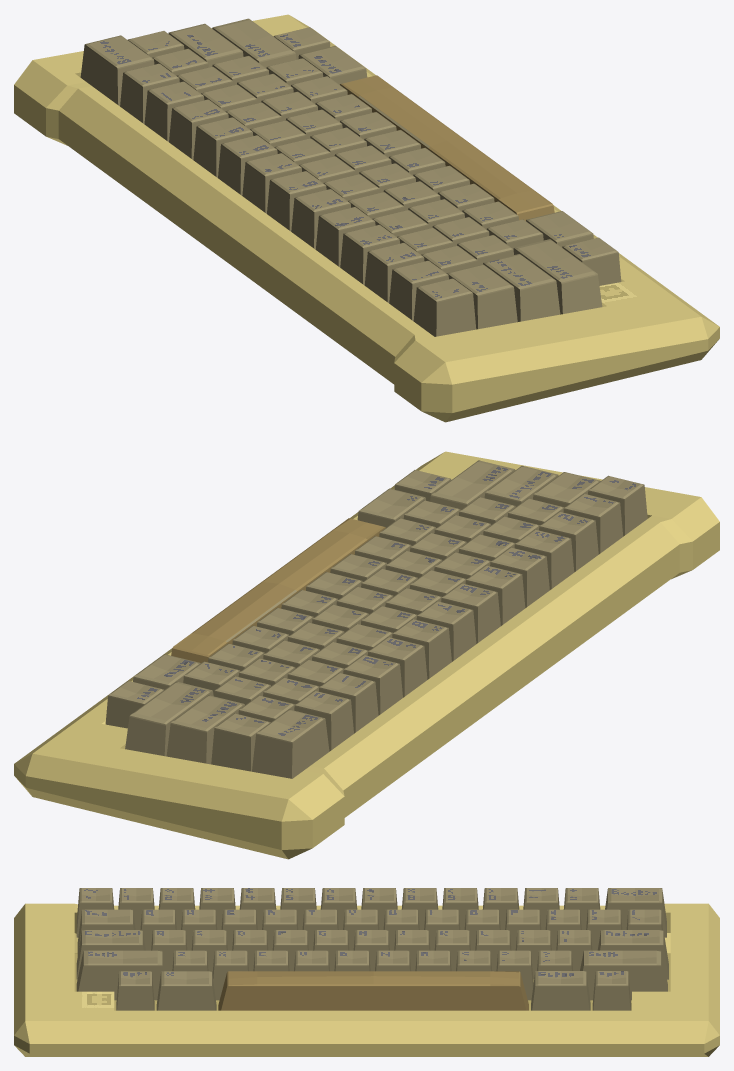
File: keyboard1.gltf
3 views of the same model, one above another, from view 1: azimuth 30°, elevation 25°; view 2: azimuth 150°, elevation 25°; view 3: azimuth 270°, elevation 25° (orthographic). The views are drawn at different scales.
Parts seen in each view (by area): view 1: keyboard_frame, Space, LShift, Backquote, CapsLock, Backspace, Tab, RShift, Digit2, Digit6, Digit4, Digit8 (+47 smaller); view 2: keyboard_frame, Space, Backspace, RShift, Return, Backslash, LShift, Equal, Digit1, Digit0, Digit5, Digit9 (+47 smaller); view 3: keyboard_frame, Space, LShift, RShift, Command, ROption, Return, Backspace, CapsLock, Enter, LOption, Tab (+47 smaller).
Boxes of the visible parts, x1,y1,x2,y2 form: keyboard_frame: [14, 14, 719, 422]; Space: [340, 75, 554, 220]; LShift: [513, 239, 602, 314]; Backquote: [413, 278, 476, 336]; CapsLock: [483, 254, 560, 321]; Backspace: [80, 35, 154, 106]; Tab: [446, 264, 517, 329]; RShift: [212, 18, 296, 68]; Digit2: [364, 242, 424, 303]; Digit6: [267, 171, 326, 231]; Digit4: [315, 207, 375, 267]; Digit8: [218, 135, 277, 195]; keyboard_frame: [14, 451, 719, 859]; Space: [171, 518, 385, 663]; Backspace: [252, 709, 329, 778]; RShift: [125, 681, 213, 756]; Return: [166, 695, 244, 764]; Backslash: [211, 713, 270, 771]; LShift: [430, 460, 515, 510]; Equal: [294, 690, 353, 751]; Digit1: [563, 494, 623, 554]; Digit0: [343, 655, 402, 715]; Digit5: [465, 565, 525, 625]; Digit9: [367, 637, 427, 697]; keyboard_frame: [14, 903, 719, 1056]; Space: [218, 971, 528, 1010]; LShift: [76, 950, 166, 1000]; RShift: [580, 950, 667, 1000]; Command: [156, 971, 216, 1010]; ROption: [531, 971, 590, 1010]; Return: [597, 930, 668, 979]; Backspace: [605, 888, 666, 937]; CapsLock: [76, 930, 145, 979]; Enter: [592, 971, 631, 1010]; LOption: [116, 971, 154, 1010]; Tab: [77, 909, 135, 955].
Size of the model in its own units: 1.85 by 0.5438 by 4.57.
6 materials, 6 textured.
